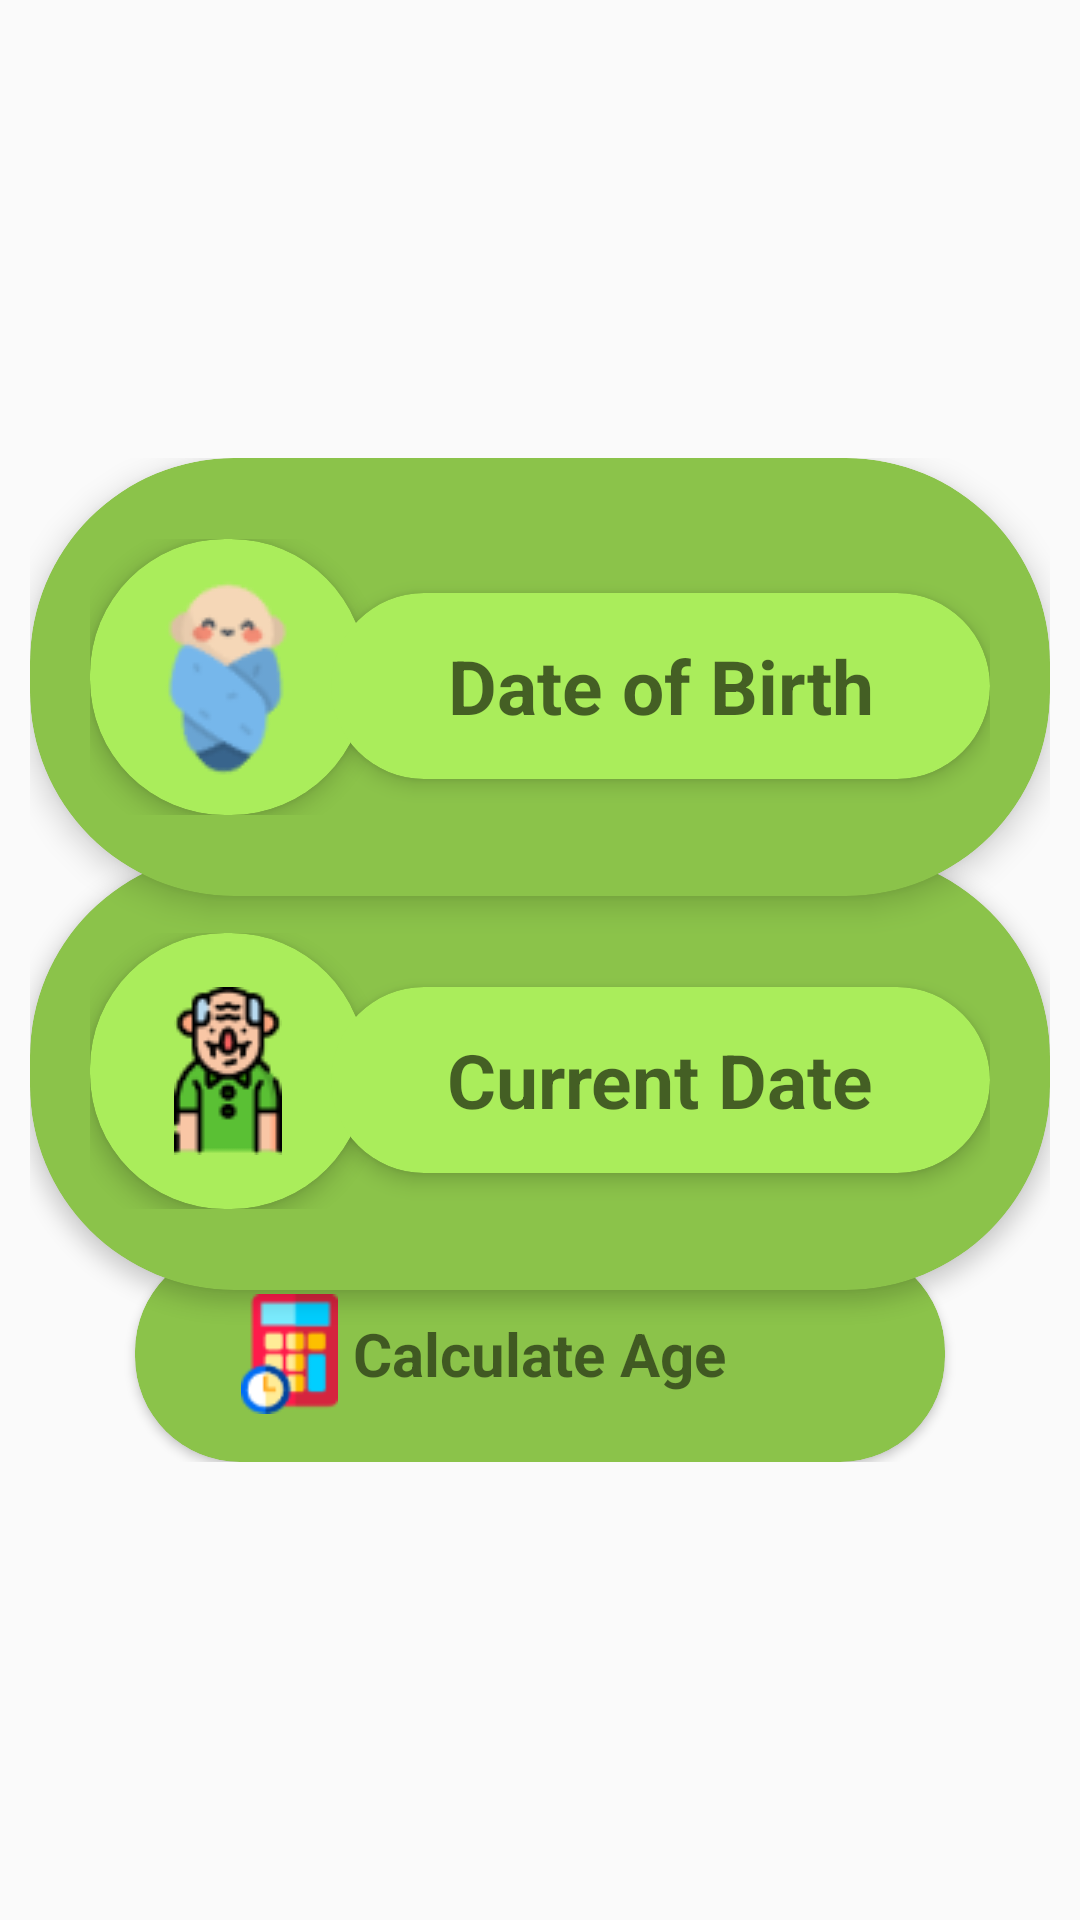

Icons on this 1080 x 1920 Android screen, each with the point to tap as [x,y]:
agecalculator: [289,1354]
babybron: [227,678]
currentage: [228,1071]
